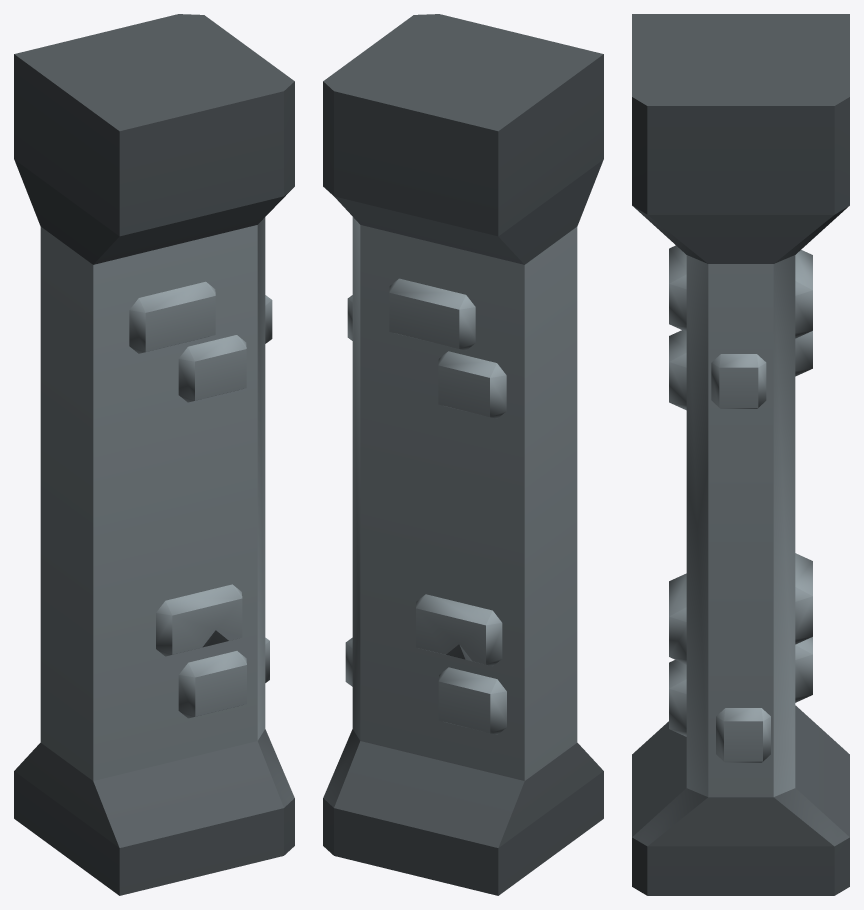
Rendered from wall_endcap.obj.
3 views of the same model, side by side, from view 1: azimuth 30°, elevation 25°; view 2: azimuth 150°, elevation 25°; view 3: azimuth 270°, elevation 25° (orthographic). The views are drawn at different scales.
Visible parts, largest first — view 1: wall_endcap; view 2: wall_endcap; view 3: wall_endcap.
Boxes of the visible parts, x1,y1,x2,y2 form: wall_endcap: (14, 14, 294, 895); wall_endcap: (323, 14, 603, 895); wall_endcap: (632, 14, 849, 895).
Size of the model in its own units: 1.07 by 4 by 1.
1 material, 1 textured.
